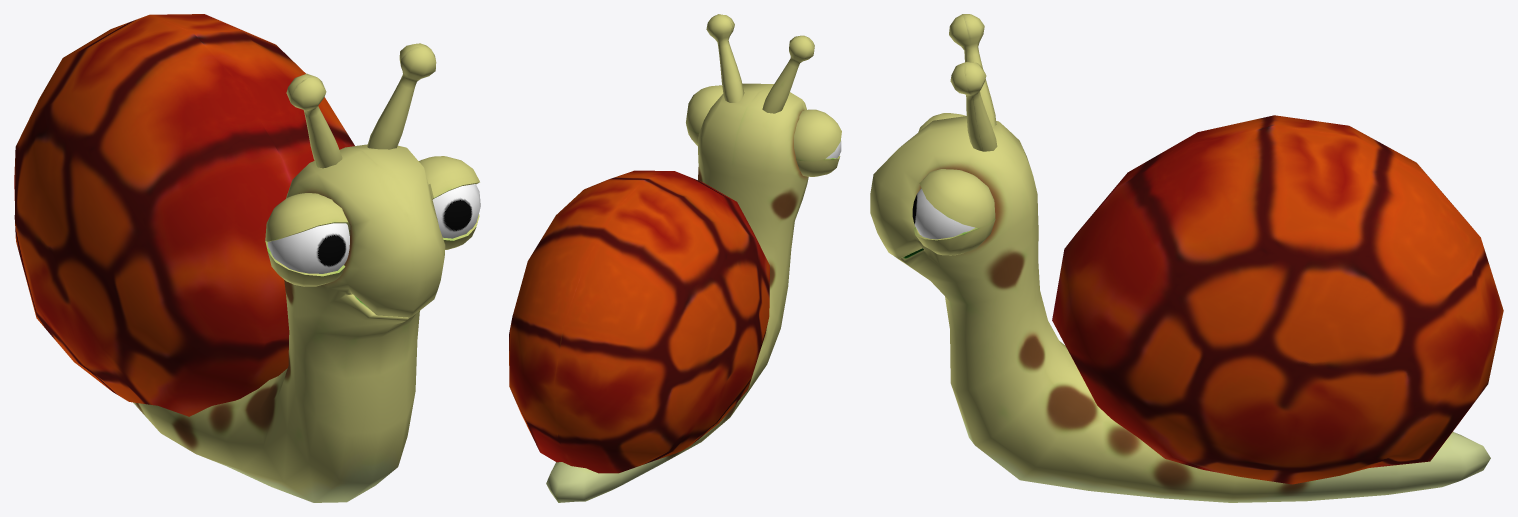
File: snail-opponent.glb
3 views of the same model, side by side, from view 1: azimuth 30°, elevation 25°; view 2: azimuth 150°, elevation 25°; view 3: azimuth 270°, elevation 25° (orthographic). The views are drawn at different scales.
Visible parts, largest first — view 1: Home; view 2: Home; view 3: Home.
Boxes of the visible parts, x1,y1,x2,y2 form: Home: (14,14,480,502); Home: (509,14,841,502); Home: (870,14,1503,502).
Size of the model in its own units: 1.17 by 1.99 by 2.53.
1 material, 1 textured.
